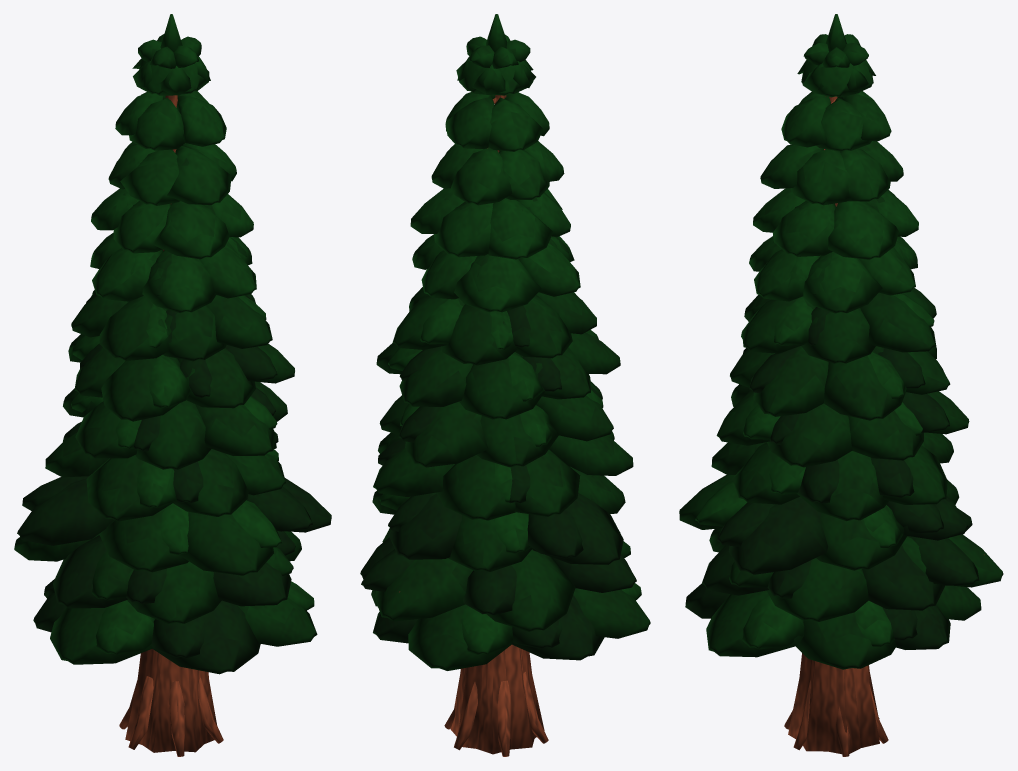
File: prop_redwood_tree.glb
The picture shows the model from 3 angles, left to right: view 1: azimuth 30°, elevation 25°; view 2: azimuth 150°, elevation 25°; view 3: azimuth 270°, elevation 25°; orthographic projection.
Parts seen in each view (by area): view 1: Redwood_BoughsMid, Redwood_BoughsSun, Redwood_BoughsDeep, Redwood_FlutedTrunk; view 2: Redwood_BoughsMid, Redwood_BoughsSun, Redwood_BoughsDeep, Redwood_FlutedTrunk; view 3: Redwood_BoughsMid, Redwood_BoughsSun, Redwood_BoughsDeep, Redwood_FlutedTrunk.
Part boxes in pixels (<box>): Redwood_BoughsMid: <box>14,158,317,664</box>; Redwood_BoughsSun: <box>71,14,314,654</box>; Redwood_BoughsDeep: <box>17,292,331,674</box>; Redwood_FlutedTrunk: <box>119,95,223,756</box>; Redwood_BoughsMid: <box>371,197,650,670</box>; Redwood_BoughsSun: <box>379,14,641,654</box>; Redwood_BoughsDeep: <box>360,305,636,660</box>; Redwood_FlutedTrunk: <box>399,95,548,756</box>; Redwood_BoughsMid: <box>679,144,1003,669</box>; Redwood_BoughsSun: <box>695,14,934,649</box>; Redwood_BoughsDeep: <box>685,307,979,649</box>; Redwood_FlutedTrunk: <box>784,96,984,756</box>.
Size of the model in its own units: 5.96 by 16.09 by 6.55.
4 materials, 4 textured.
